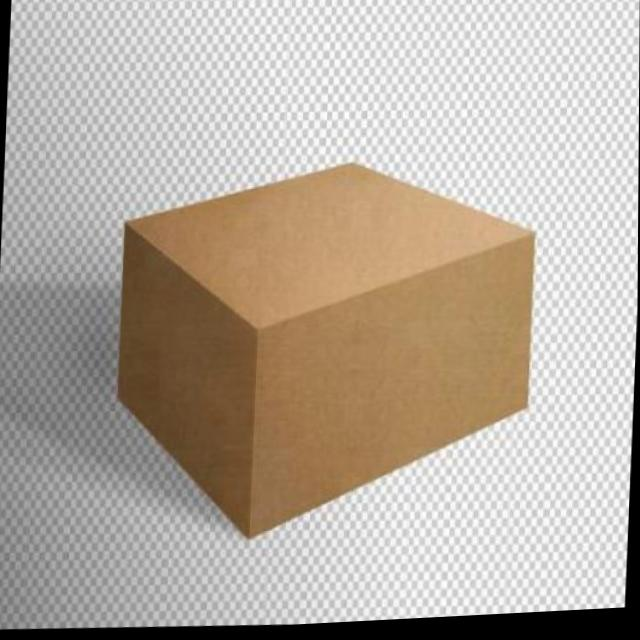box: (94, 127, 558, 587)
